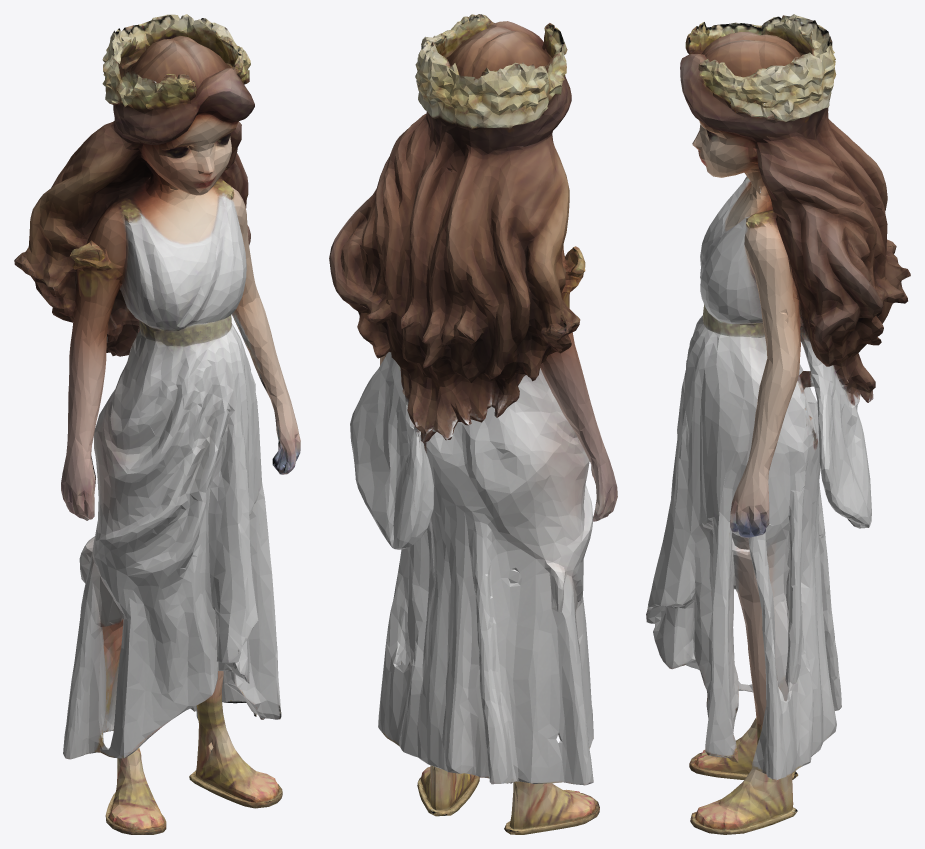
File: elena.glb
The picture shows the model from 3 angles, left to right: view 1: azimuth 30°, elevation 25°; view 2: azimuth 150°, elevation 25°; view 3: azimuth 270°, elevation 25°; orthographic projection. The views are drawn at different scales.
Visible parts, largest first — view 1: world; view 2: world; view 3: world.
Part boxes in pixels (x1,y1,x2,y2): world: (14,14,300,834); world: (329,14,617,834); world: (646,14,910,834).
Size of the model in its own units: 0.3269 by 0.9986 by 0.3161.
1 material, 1 textured.
